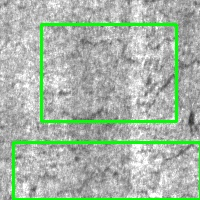crazing: (41, 24, 176, 121), (13, 142, 200, 199)
